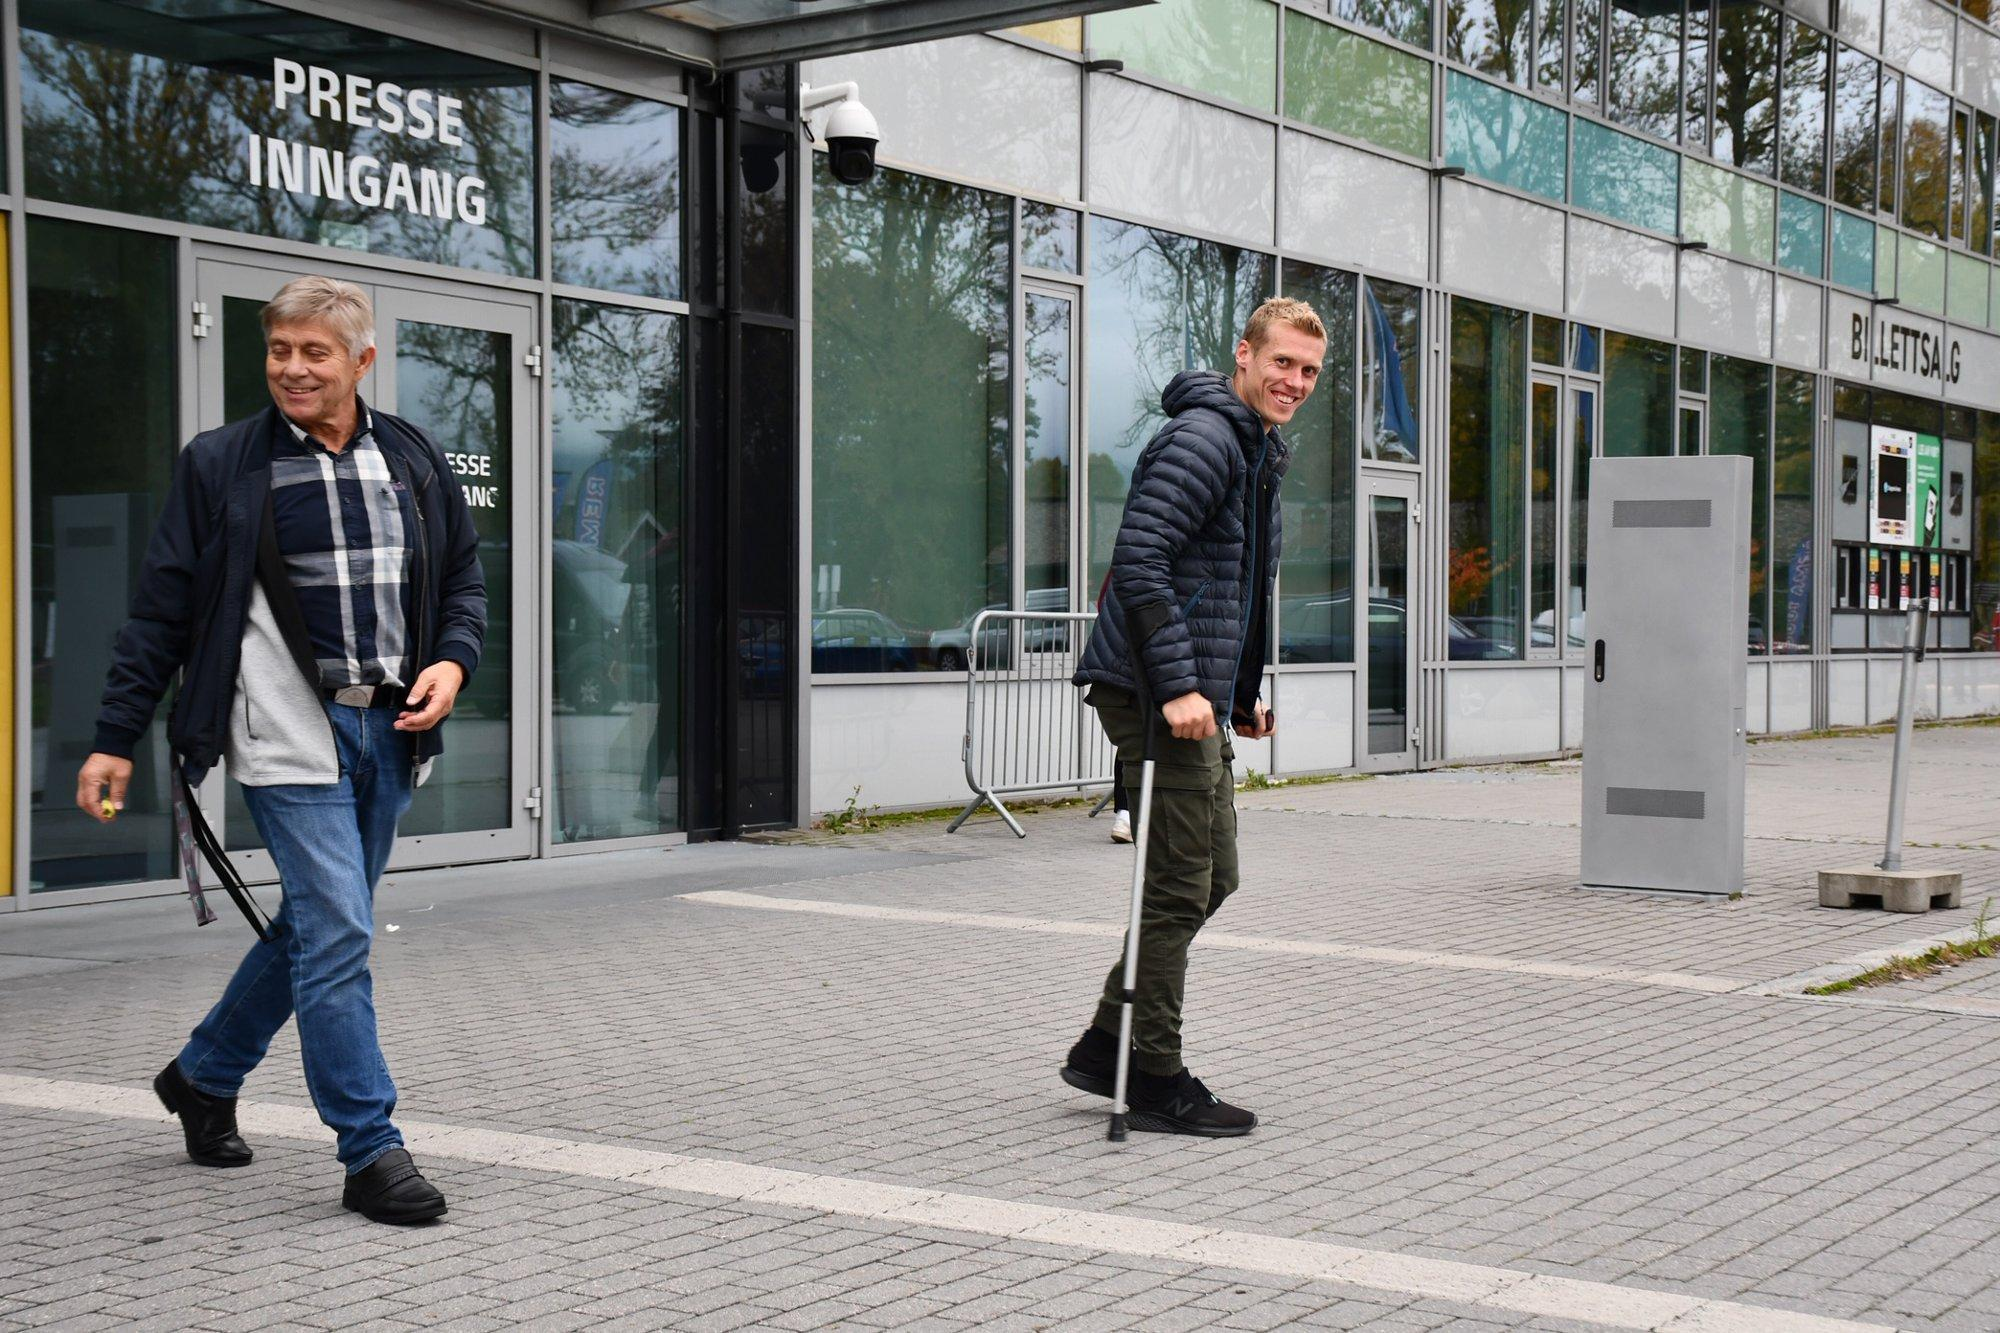crutches: (1038, 219, 1350, 1175)
